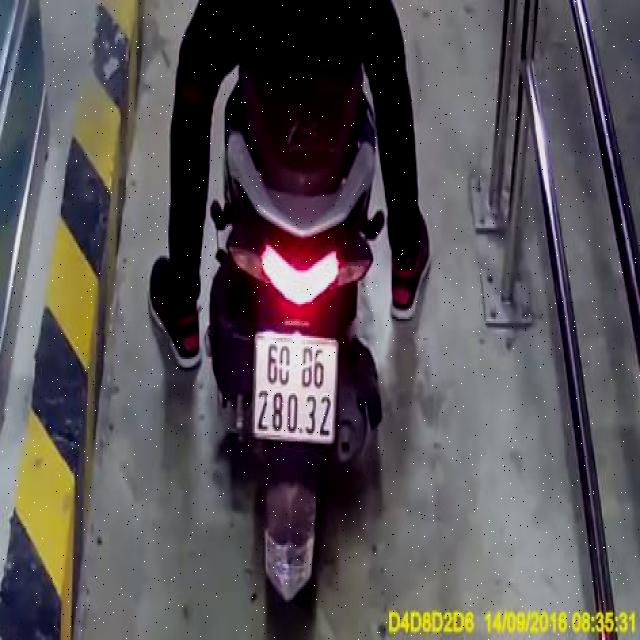0: (279, 344, 290, 386), (288, 391, 298, 434)
2: (320, 394, 330, 437), (257, 390, 268, 429)
3: (304, 392, 315, 435)
6: (266, 342, 278, 385), (315, 348, 325, 390)
8: (271, 390, 284, 434)
B: (302, 346, 313, 390)
